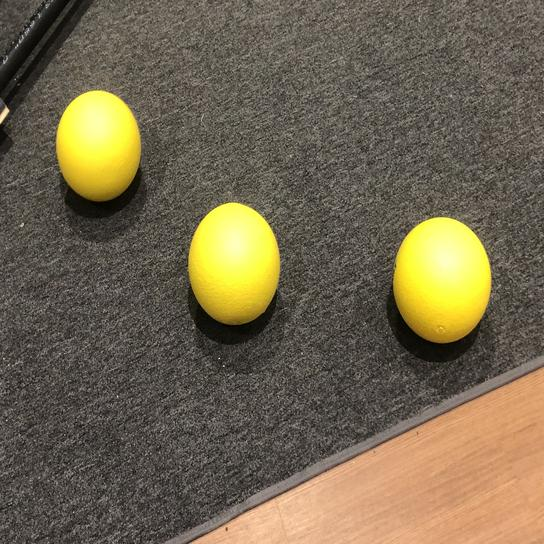ball: (185, 196, 282, 333), (390, 215, 493, 344), (53, 83, 143, 202)
